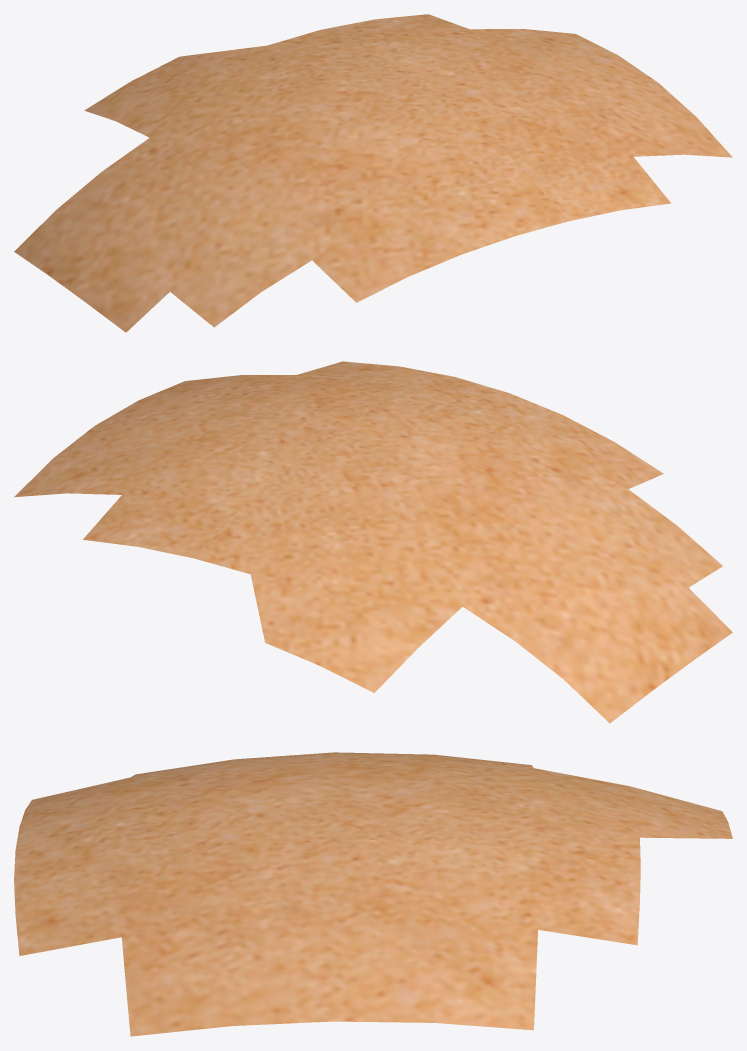
The model's file is huevoRoto.obj.
3 renders of one model, top to bottom at view 1: azimuth 30°, elevation 25°; view 2: azimuth 150°, elevation 25°; view 3: azimuth 270°, elevation 25°, orthographic. The views are drawn at different scales.
Visible parts, largest first — view 1: huevoRoto; view 2: huevoRoto; view 3: huevoRoto.
Boxes of the visible parts, x1,y1,x2,y2 form: huevoRoto: [14, 14, 732, 332]; huevoRoto: [14, 361, 732, 723]; huevoRoto: [14, 752, 732, 1036].
Bounding box in the file's own units: 1.14 × 0.2407 × 0.9826.
1 material, 1 textured.
